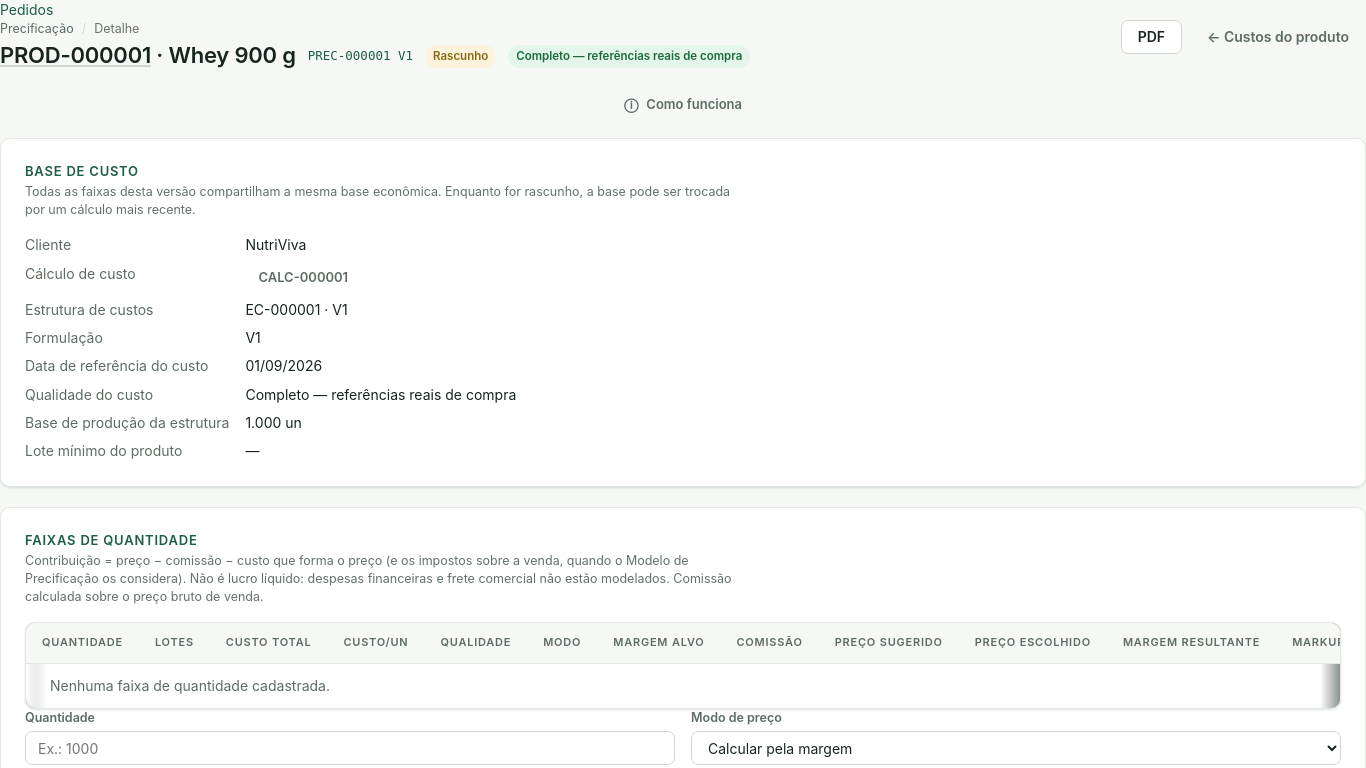
Scenario: Precificação — guarda de alterações não salvas › apagar a quantidade devolve a tela ao estado limpo
Type "500" into the field labelled "Quantidade" at (350, 748), box [25,732,675,766]
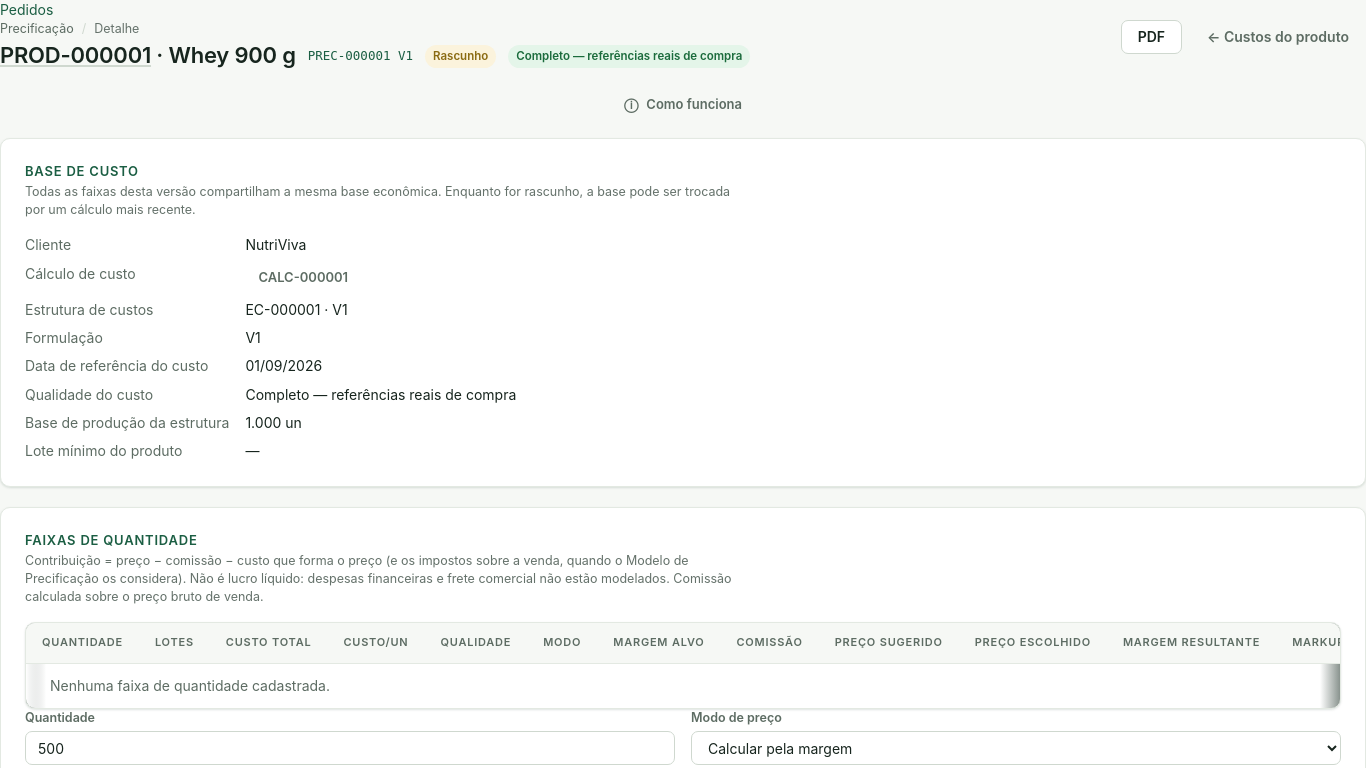
Clear the field labelled "Quantidade" at (350, 748), box [25,732,675,766]
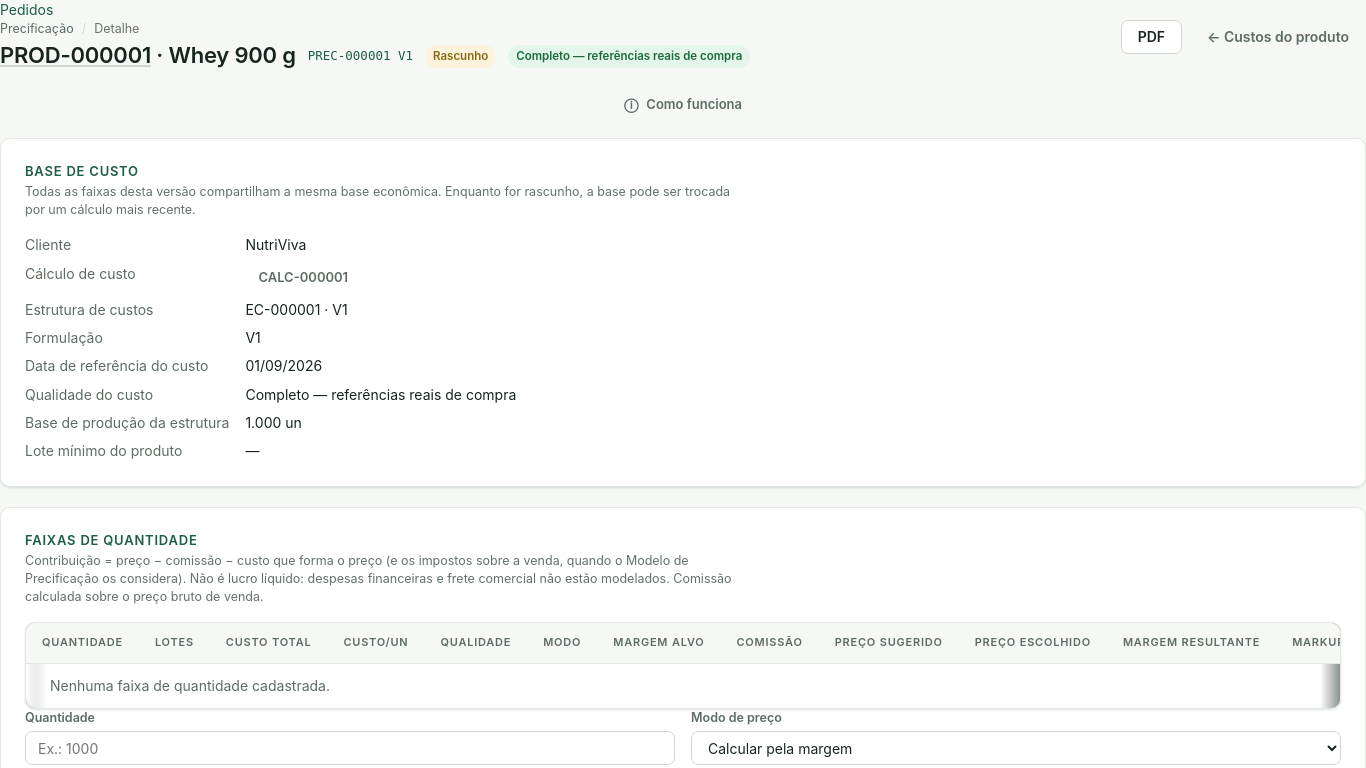
Click the link "Pedidos" at (27, 10), box [0,1,53,18]
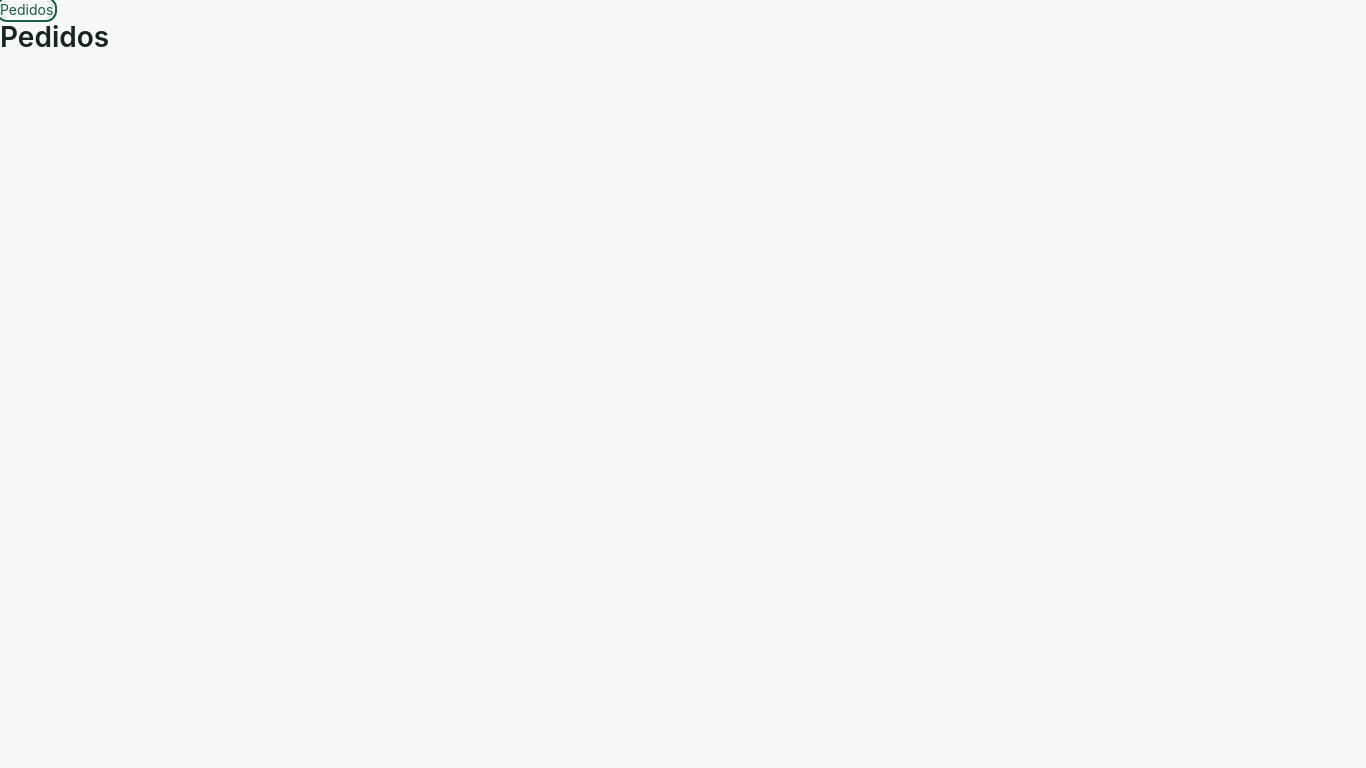
Expected: the heading "Pedidos" is shown, [0,20,109,54]
